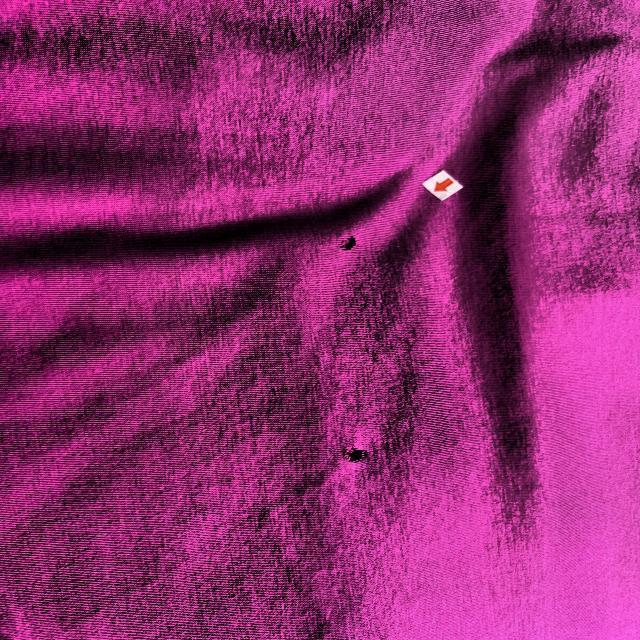cut: (328, 228, 361, 256), (228, 274, 261, 301)
